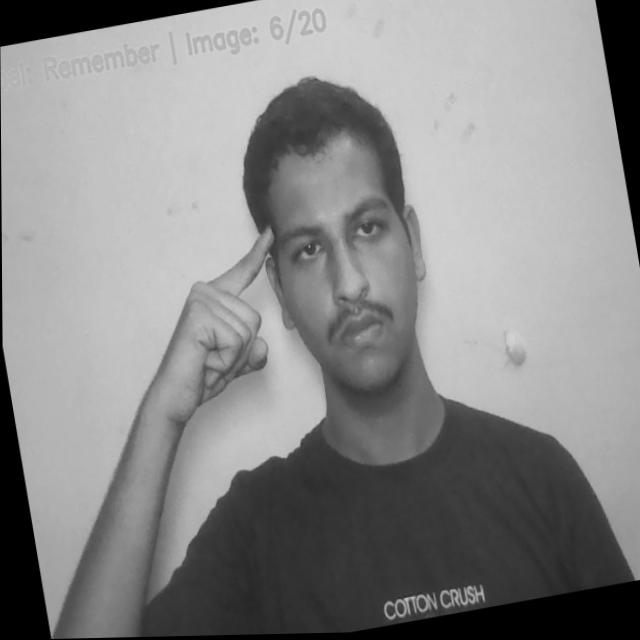Remember: (123, 214, 303, 456)
